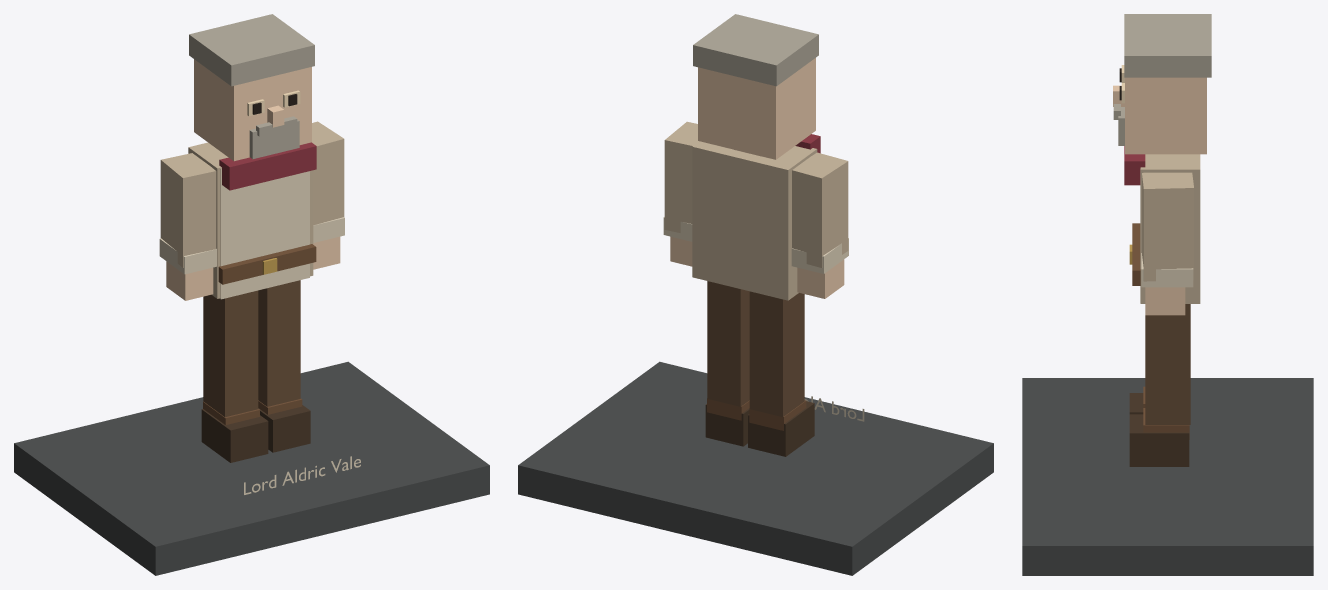
The model's file is Victim.fbx.
The picture shows the model from 3 angles, left to right: view 1: azimuth 30°, elevation 25°; view 2: azimuth 150°, elevation 25°; view 3: azimuth 270°, elevation 25°; orthographic projection. The views are drawn at different scales.
Visible parts, largest first — view 1: Aldric display floor, Lord Aldric Vale | torso, Lord Aldric Vale | head, Lord Aldric Vale | L leg, Lord Aldric Vale | hair cap, Lord Aldric Vale | L upper arm, Lord Aldric Vale | R leg, Lord Aldric Vale | R upper arm, Lord Aldric Vale | scarf, Lord Aldric Vale | L boot, Lord Aldric Vale | R boot, Lord Aldric Vale | belt (+6 smaller); view 2: Aldric display floor, Lord Aldric Vale | coat body, Lord Aldric Vale | head, Lord Aldric Vale | L leg, Lord Aldric Vale | hair cap, Lord Aldric Vale | L upper arm, Lord Aldric Vale | R leg, Lord Aldric Vale | R upper arm, Lord Aldric Vale | L boot, Lord Aldric Vale | L hand, Lord Aldric Vale | R boot, Lord Aldric Vale | L cuff (+1 smaller); view 3: Aldric display floor, Lord Aldric Vale | head, Lord Aldric Vale | hair cap, Lord Aldric Vale | R upper arm, Lord Aldric Vale | R leg, Lord Aldric Vale | coat body, Lord Aldric Vale | R boot, Lord Aldric Vale | R hand, Lord Aldric Vale | R cuff, Lord Aldric Vale | scarf, Lord Aldric Vale | belt, Lord Aldric Vale | R boot cuff.
Boxes of the visible parts, x1=… form: Aldric display floor: x1=14, y1=361, x2=489, y2=575; Lord Aldric Vale | torso: x1=220, y1=168, x2=309, y2=299; Lord Aldric Vale | head: x1=194, y1=59, x2=311, y2=161; Lord Aldric Vale | L leg: x1=203, y1=290, x2=258, y2=417; Lord Aldric Vale | hair cap: x1=189, y1=14, x2=314, y2=86; Lord Aldric Vale | L upper arm: x1=160, y1=153, x2=216, y2=267; Lord Aldric Vale | R leg: x1=258, y1=280, x2=300, y2=406; Lord Aldric Vale | R upper arm: x1=312, y1=121, x2=344, y2=225; Lord Aldric Vale | scarf: x1=219, y1=142, x2=316, y2=190; Lord Aldric Vale | L boot: x1=201, y1=409, x2=268, y2=462; Lord Aldric Vale | R boot: x1=258, y1=405, x2=310, y2=452; Lord Aldric Vale | belt: x1=218, y1=244, x2=316, y2=284; Aldric display floor: x1=518, y1=361, x2=993, y2=575; Lord Aldric Vale | coat body: x1=692, y1=141, x2=817, y2=300; Lord Aldric Vale | head: x1=698, y1=58, x2=815, y2=159; Lord Aldric Vale | L leg: x1=749, y1=291, x2=804, y2=417; Lord Aldric Vale | hair cap: x1=693, y1=14, x2=818, y2=86; Lord Aldric Vale | L upper arm: x1=792, y1=152, x2=848, y2=267; Lord Aldric Vale | R leg: x1=707, y1=281, x2=749, y2=406; Lord Aldric Vale | R upper arm: x1=664, y1=121, x2=699, y2=232; Lord Aldric Vale | L boot: x1=748, y1=401, x2=814, y2=456; Lord Aldric Vale | L hand: x1=797, y1=259, x2=844, y2=298; Lord Aldric Vale | R boot: x1=705, y1=404, x2=749, y2=446; Lord Aldric Vale | L cuff: x1=791, y1=238, x2=848, y2=273; Aldric display floor: x1=1022, y1=378, x2=1313, y2=575; Lord Aldric Vale | head: x1=1125, y1=77, x2=1206, y2=154; Lord Aldric Vale | hair cap: x1=1124, y1=14, x2=1211, y2=77; Lord Aldric Vale | R upper arm: x1=1142, y1=172, x2=1193, y2=281; Lord Aldric Vale | R leg: x1=1145, y1=304, x2=1190, y2=424; Lord Aldric Vale | coat body: x1=1140, y1=154, x2=1200, y2=303; Lord Aldric Vale | R boot: x1=1129, y1=414, x2=1189, y2=466; Lord Aldric Vale | R hand: x1=1145, y1=287, x2=1185, y2=315; Lord Aldric Vale | R cuff: x1=1141, y1=253, x2=1193, y2=287; Lord Aldric Vale | scarf: x1=1124, y1=146, x2=1145, y2=185; Lord Aldric Vale | belt: x1=1132, y1=223, x2=1140, y2=285; Lord Aldric Vale | R boot cuff: x1=1143, y1=408, x2=1189, y2=439.
Bounding box in the file's own units: 300 × 381 × 220.
